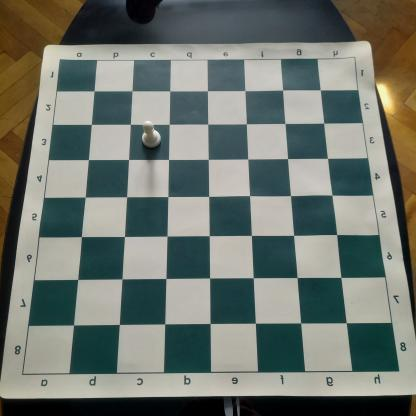white-pawn: (140, 120, 162, 150)
